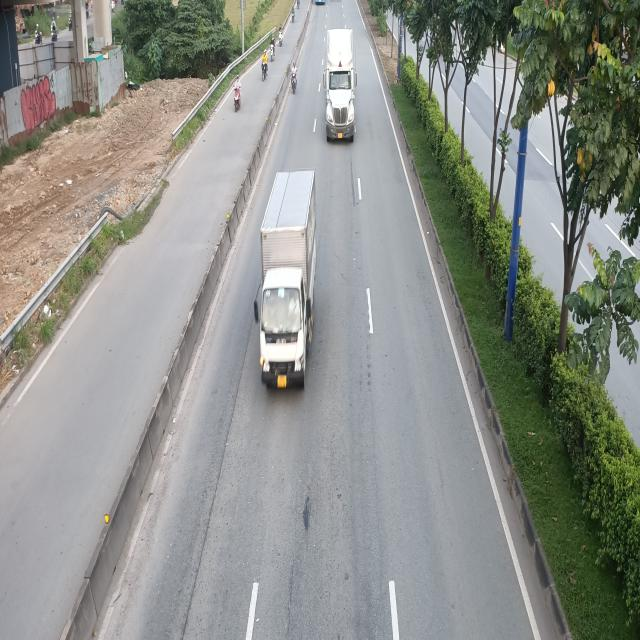container: (324, 28, 359, 143)
truck: (252, 169, 318, 390)
